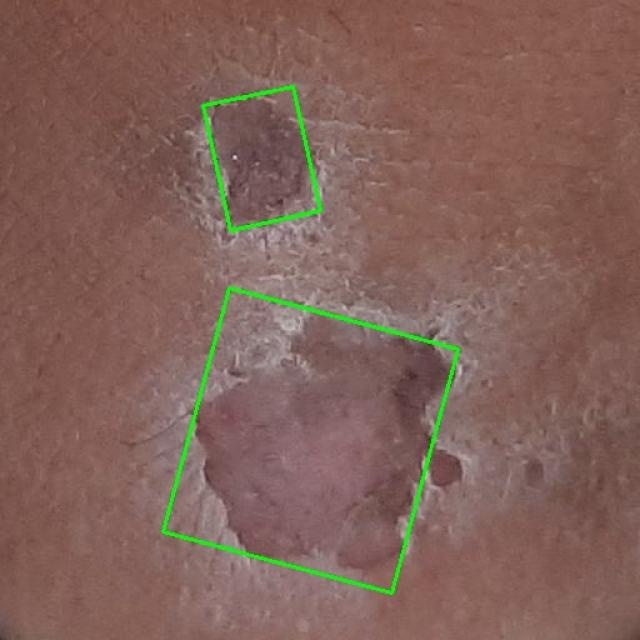Contact Dermatitis: (164, 288, 458, 593), (203, 86, 321, 231)
